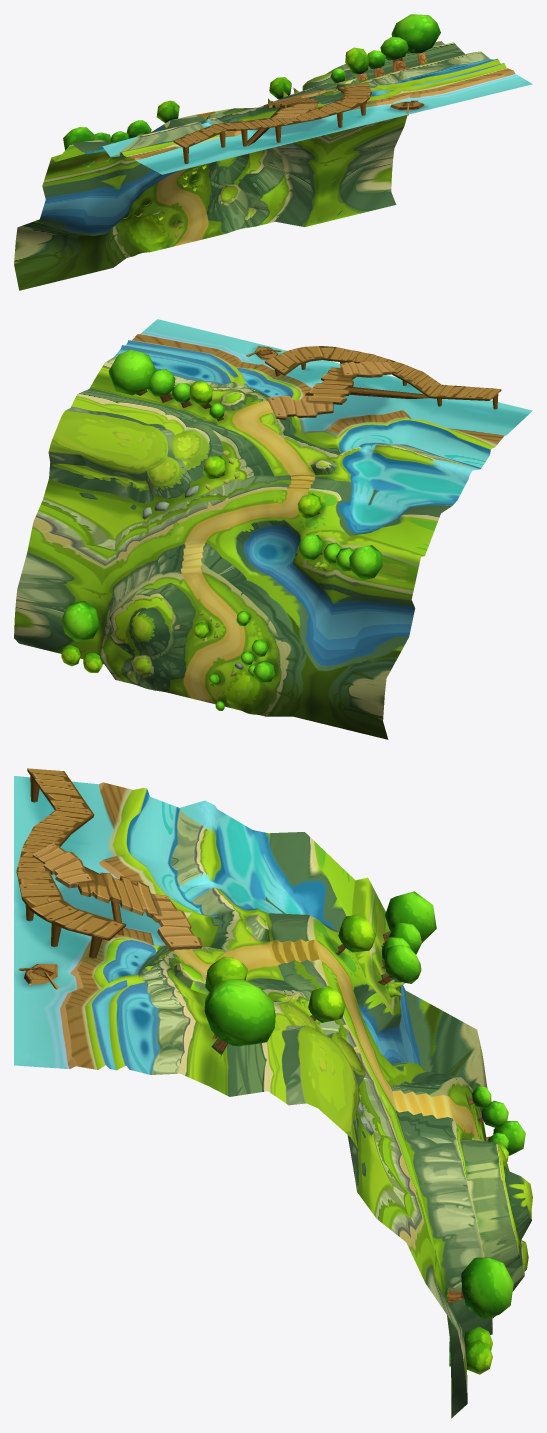
File: Chapter2Model4.FBX
3 views of the same model, one above another, from view 1: azimuth 30°, elevation 25°; view 2: azimuth 150°, elevation 25°; view 3: azimuth 270°, elevation 25° (orthographic). The views are drawn at different scales.
Visible parts, largest first — view 1: Chapter2Mode4Model1, Chapter2Mode4Model3, Chapter2Mode4Model2; view 2: Chapter2Mode4Model1, Chapter2Mode4Model3, Chapter2Mode4Model2; view 3: Chapter2Mode4Model1, Chapter2Mode4Model3, Chapter2Mode4Model2.
Boxes of the visible parts, x1=… form: Chapter2Mode4Model1: x1=14, y1=41, x2=532, y2=290; Chapter2Mode4Model3: x1=63, y1=14, x2=440, y2=245; Chapter2Mode4Model2: x1=130, y1=78, x2=424, y2=220; Chapter2Mode4Model1: x1=14, y1=319, x2=532, y2=739; Chapter2Mode4Model3: x1=61, y1=349, x2=382, y2=710; Chapter2Mode4Model2: x1=142, y1=346, x2=501, y2=676; Chapter2Mode4Model1: x1=14, y1=776, x2=532, y2=1418; Chapter2Mode4Model3: x1=204, y1=891, x2=525, y2=1374; Chapter2Mode4Model2: x1=16, y1=768, x2=484, y2=1141.
Size of the model in its own units: 974 by 737 by 634.
